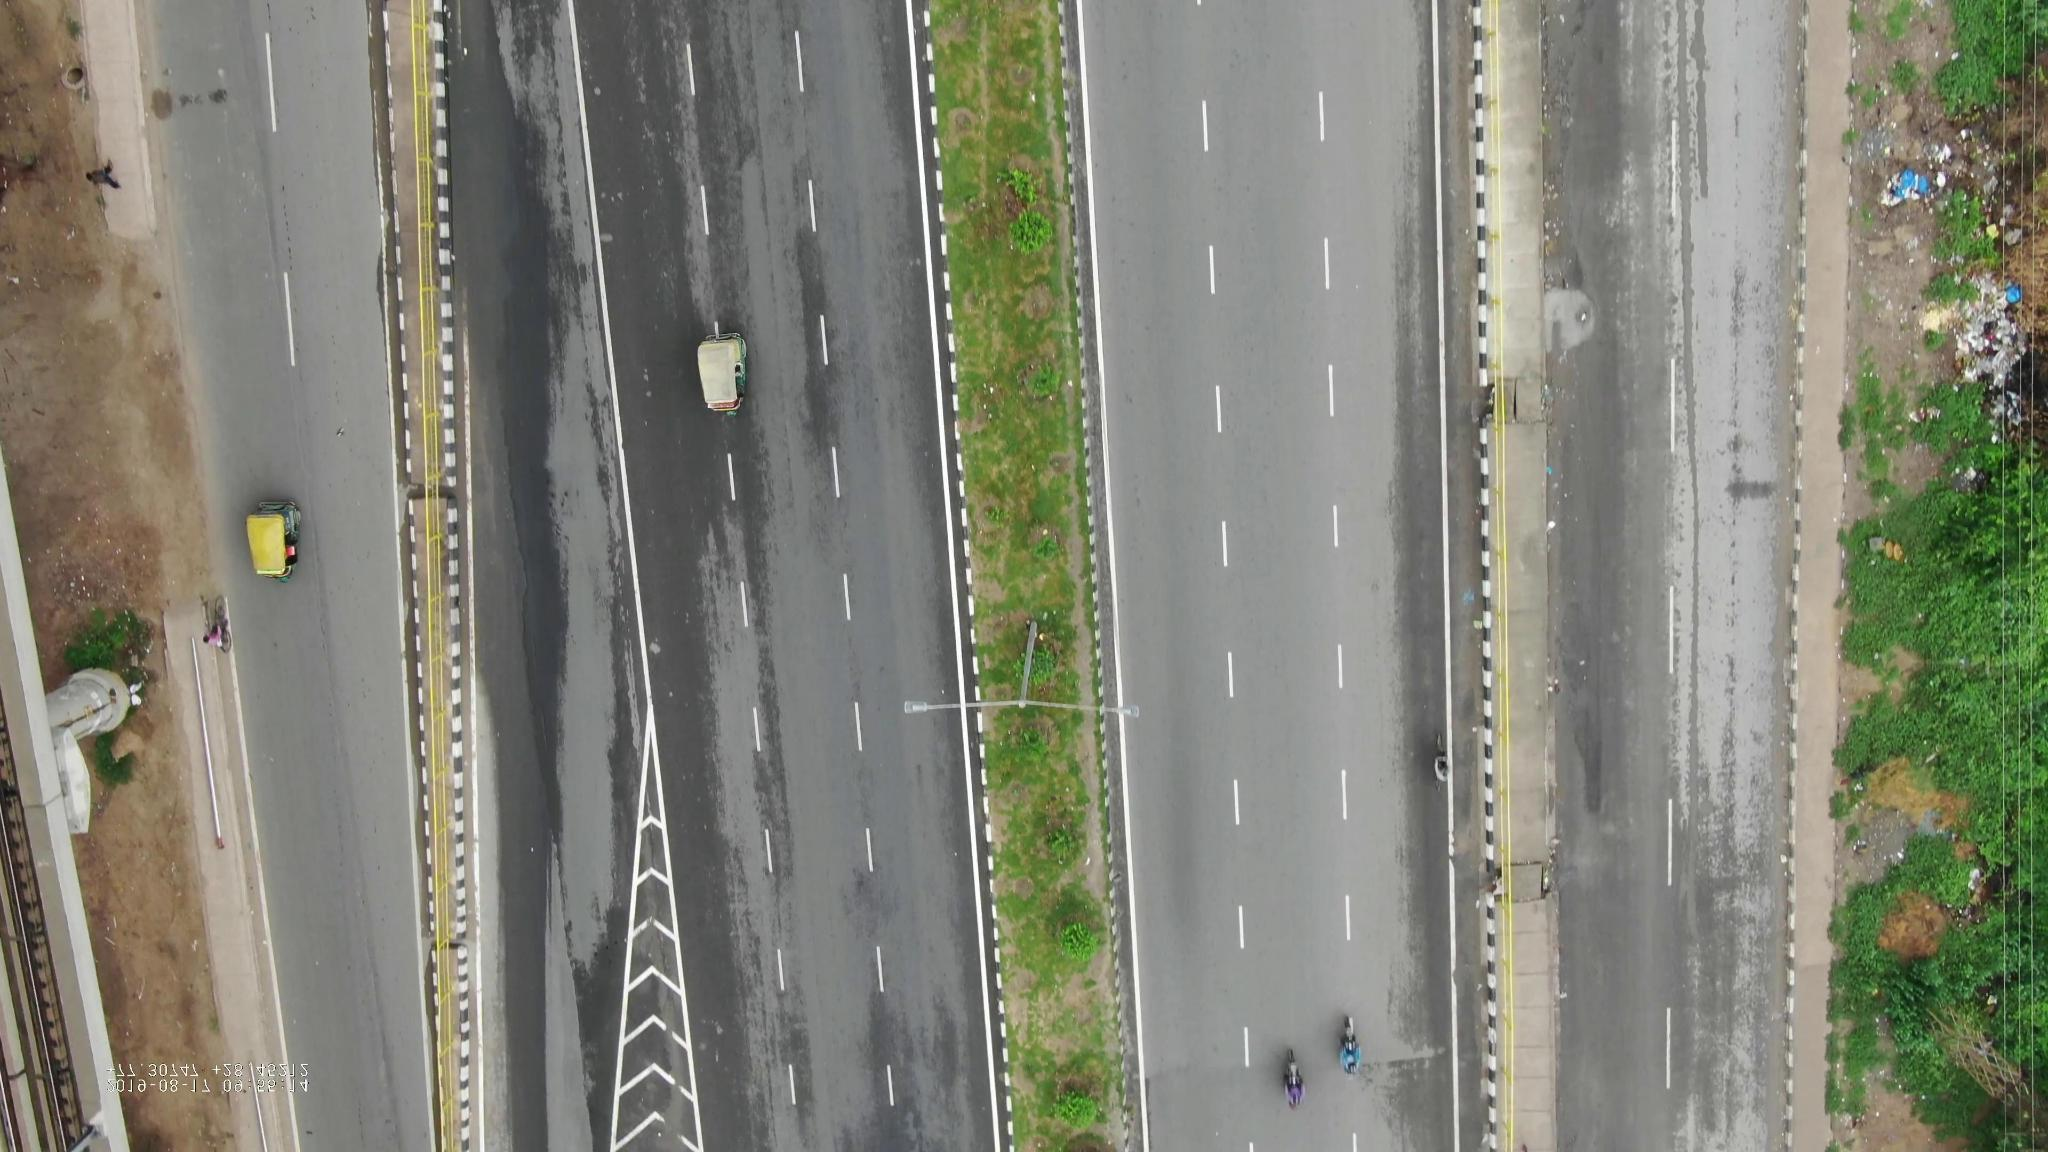Road_side_garbage: (1862, 135, 2038, 437)
